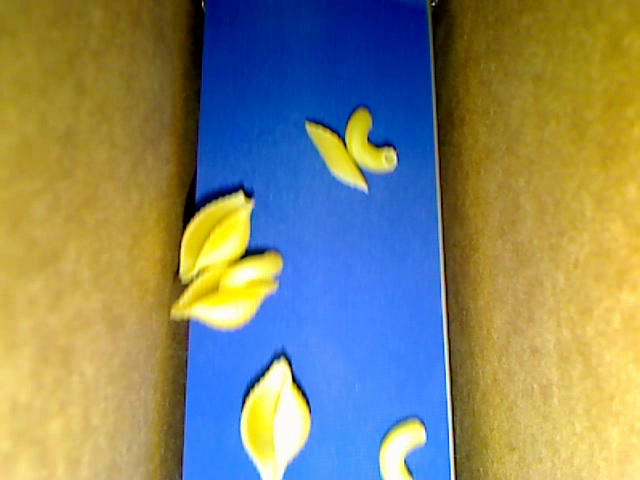elbow: (344, 105, 397, 172), (378, 416, 427, 479), (218, 250, 284, 293)
penne: (303, 120, 368, 191)
shell: (240, 356, 311, 479), (170, 265, 278, 334), (177, 191, 254, 286)
